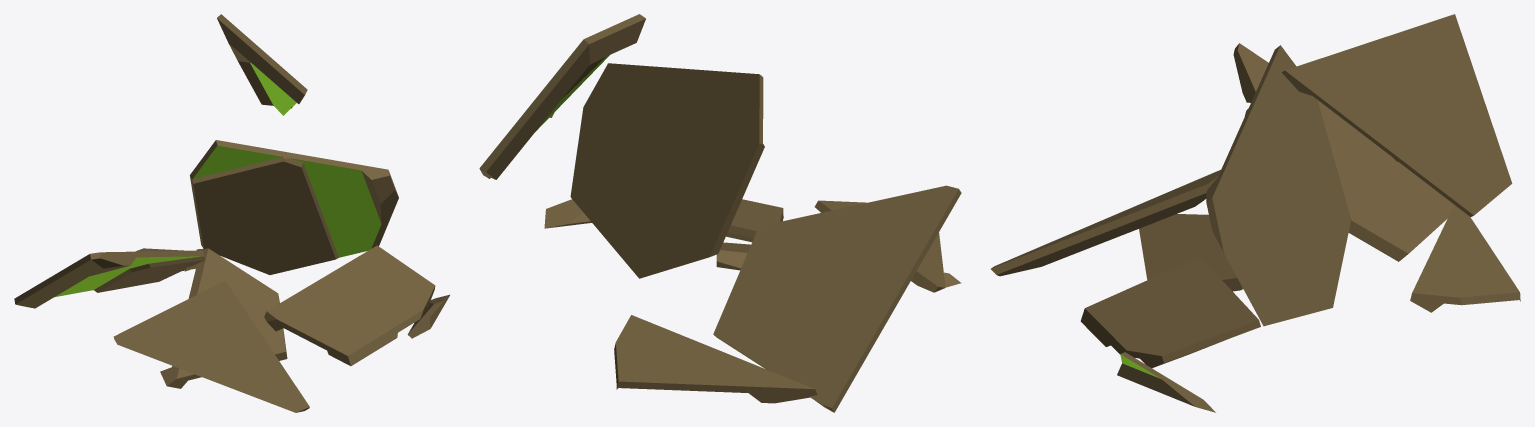
File: cell.gltf
The picture shows the model from 3 angles, left to right: view 1: azimuth 30°, elevation 25°; view 2: azimuth 150°, elevation 25°; view 3: azimuth 270°, elevation 25°; orthographic projection. The views are drawn at different scales.
Visible parts, largest first — view 1: Plane_cell.003, Plane_cell.006, Plane_cell.007, Plane_cell.002, Plane_cell.001, Plane_cell.008, Plane_cell.005; view 2: Plane_cell.003, Plane_cell.002, Plane_cell.004, Plane_cell.008, Plane_cell.006, Plane_cell.007, Plane_cell.005, Plane_cell.001; view 3: Plane_cell.003, Plane_cell.008, Plane_cell.007, Plane_cell.002, Plane_cell.004, Plane_cell.006, Plane_cell.001, Plane_cell.005.
Part boxes in pixels (left/top/right/bottom): Plane_cell.003: left=190, top=140, right=398, bottom=274; Plane_cell.006: left=113, top=281, right=309, bottom=412; Plane_cell.007: left=264, top=245, right=435, bottom=365; Plane_cell.002: left=14, top=250, right=204, bottom=308; Plane_cell.001: left=160, top=248, right=287, bottom=388; Plane_cell.008: left=217, top=14, right=307, bottom=115; Plane_cell.005: left=407, top=294, right=449, bottom=338; Plane_cell.003: left=570, top=63, right=764, bottom=278; Plane_cell.002: left=713, top=185, right=961, bottom=412; Plane_cell.004: left=614, top=315, right=817, bottom=403; Plane_cell.008: left=479, top=14, right=645, bottom=179; Plane_cell.006: left=814, top=200, right=945, bottom=292; Plane_cell.007: left=726, top=199, right=783, bottom=242; Plane_cell.005: left=544, top=199, right=591, bottom=228; Plane_cell.001: left=716, top=242, right=961, bottom=287; Plane_cell.003: left=1206, top=45, right=1351, bottom=326; Plane_cell.008: left=1282, top=14, right=1512, bottom=216; Plane_cell.007: left=1080, top=258, right=1260, bottom=368; Plane_cell.002: left=1233, top=43, right=1453, bottom=261; Plane_cell.004: left=1410, top=205, right=1520, bottom=312; Plane_cell.006: left=991, top=170, right=1220, bottom=276; Plane_cell.001: left=1139, top=214, right=1242, bottom=291; Plane_cell.005: left=1117, top=352, right=1215, bottom=412.
Size of what is drawn, in the model's own units: 5.79 by 3.97 by 5.94.
